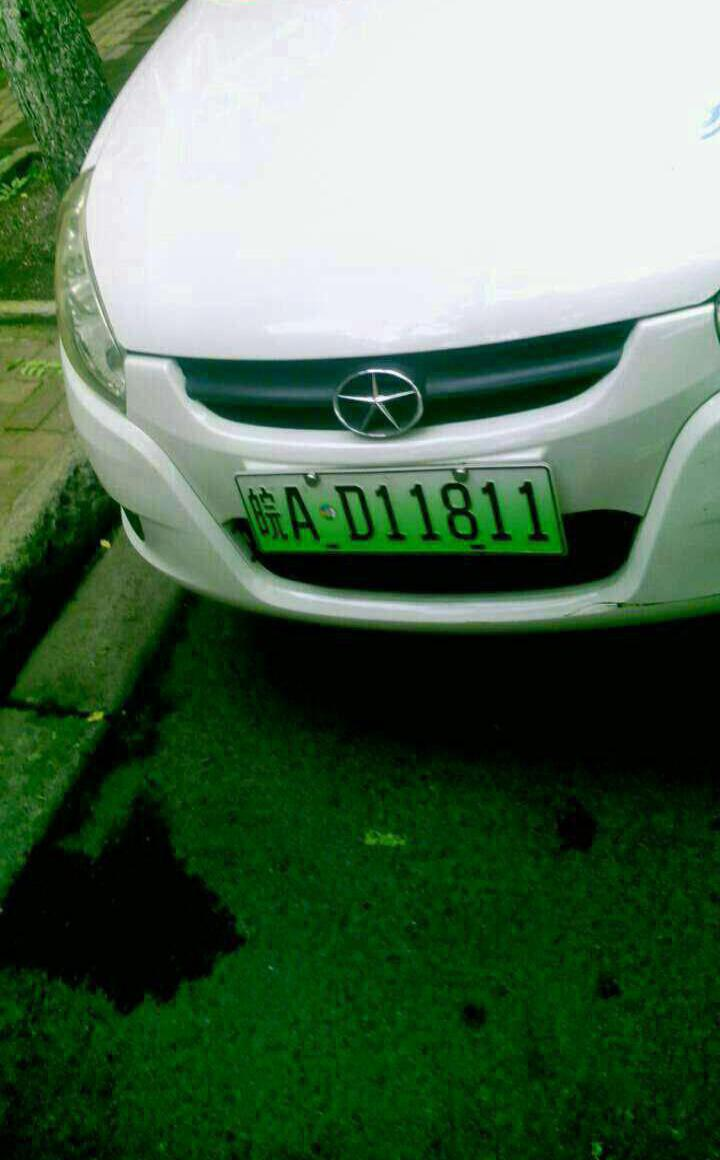car_id: (239, 467, 566, 552)
